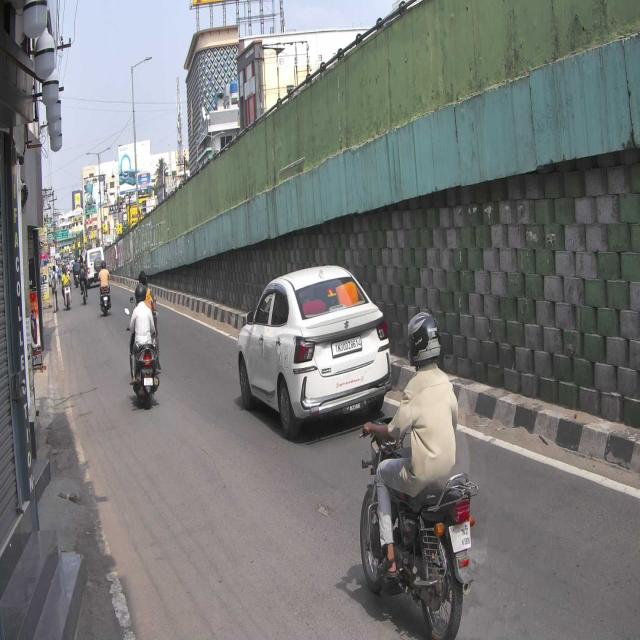single_rider: (359, 308, 478, 640), (125, 283, 161, 411)
